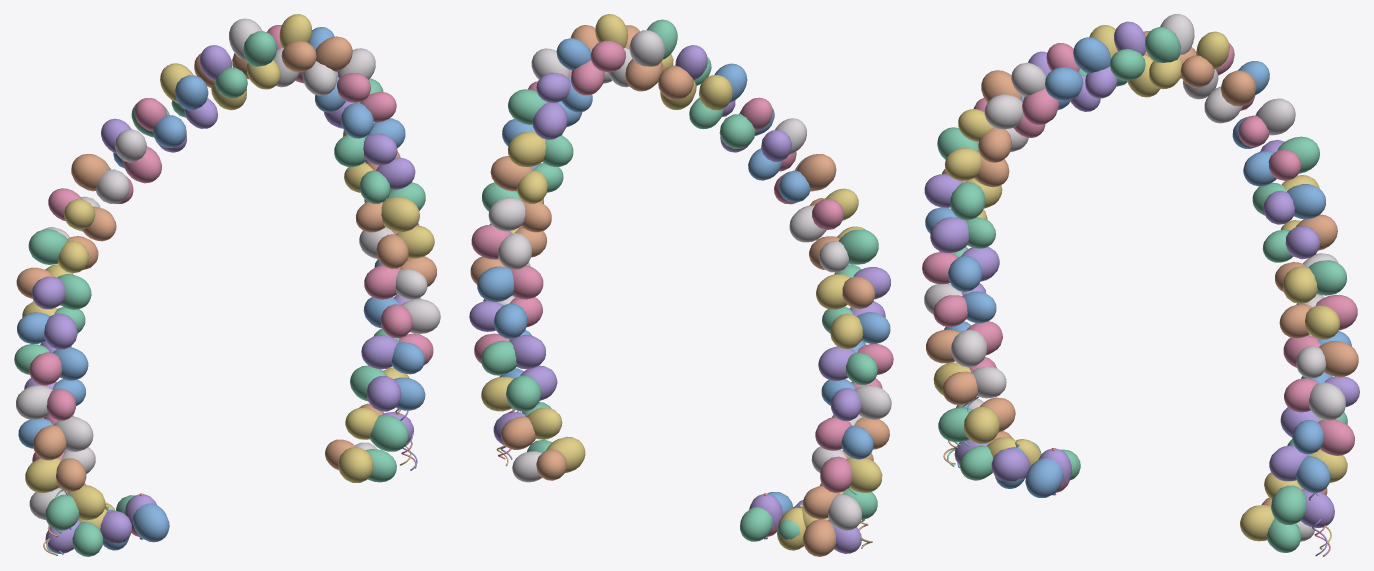
Rendered from W4_BalloonArch.fbx.
The picture shows the model from 3 angles, left to right: view 1: azimuth 30°, elevation 25°; view 2: azimuth 150°, elevation 25°; view 3: azimuth 330°, elevation 25°; orthographic projection. The views are drawn at different scales.
Parts seen in each view (by area): view 1: W4_BalloonArch; view 2: W4_BalloonArch; view 3: W4_BalloonArch.
Boxes of the visible parts, x1,y1,x2,y2 form: W4_BalloonArch: [14, 14, 440, 556]; W4_BalloonArch: [469, 14, 893, 556]; W4_BalloonArch: [922, 14, 1359, 556].
Bounding box in the file's own units: 2.08 × 2.32 × 0.3449.
